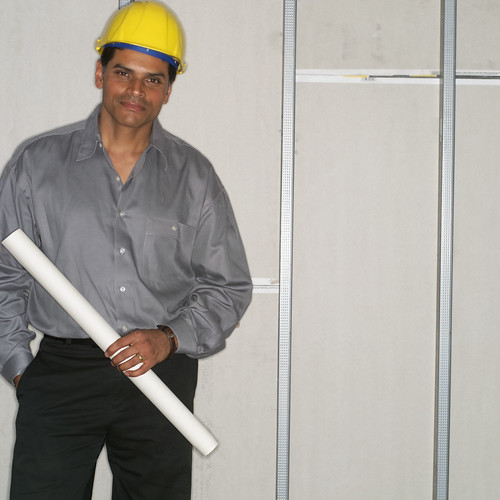person hardhat: (1, 3, 254, 500)
